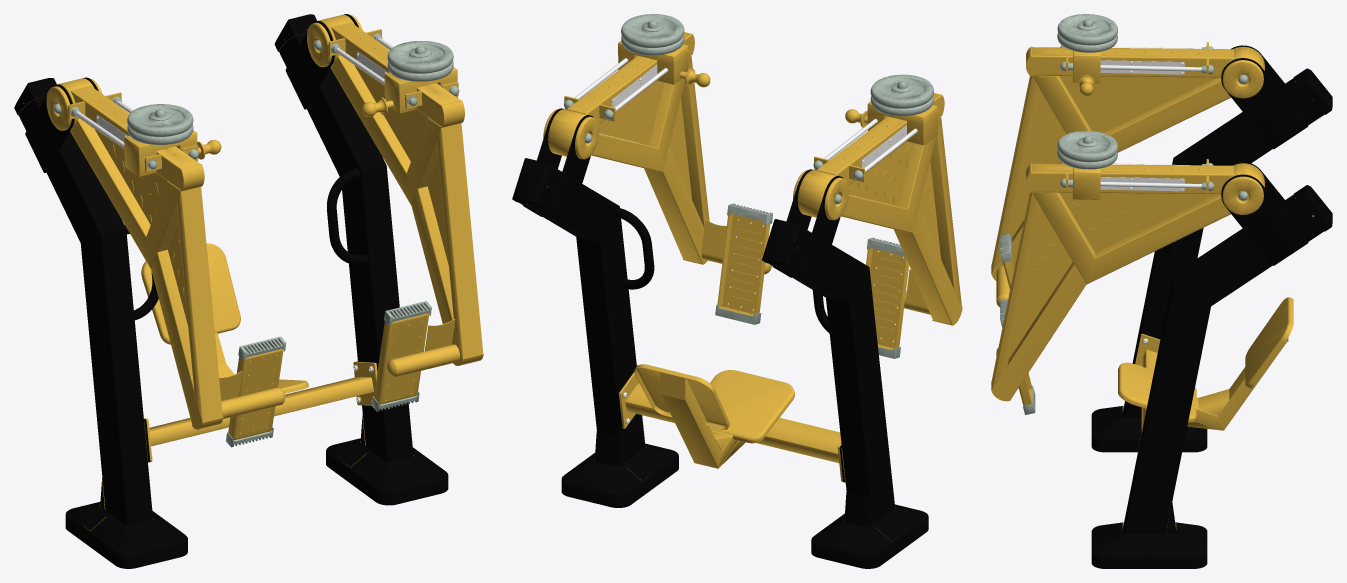
3 views of the same model, side by side, from view 1: azimuth 30°, elevation 25°; view 2: azimuth 150°, elevation 25°; view 3: azimuth 270°, elevation 25° (orthographic). The views are drawn at different scales.
Parts seen in each view (by area): view 1: Geom3D_003.STL#1, Geom3D (×3); view 2: Geom3D_003.STL#1, Geom3D (×3); view 3: Geom3D_003.STL#1, Geom3D (×3).
Part boxes in pixels (box(x1,y1,x2,y2)): Geom3D_003.STL#1: box(18, 14, 483, 530); Geom3D (×3): box(14, 14, 459, 568); Geom3D_003.STL#1: box(527, 32, 962, 541); Geom3D (×3): box(512, 14, 938, 568); Geom3D_003.STL#1: box(991, 42, 1314, 531); Geom3D (×3): box(1000, 14, 1332, 568).
Size of the model in its own units: 1.27 by 1.67 by 1.24.
Materials: 4 (1 with a texture image).
